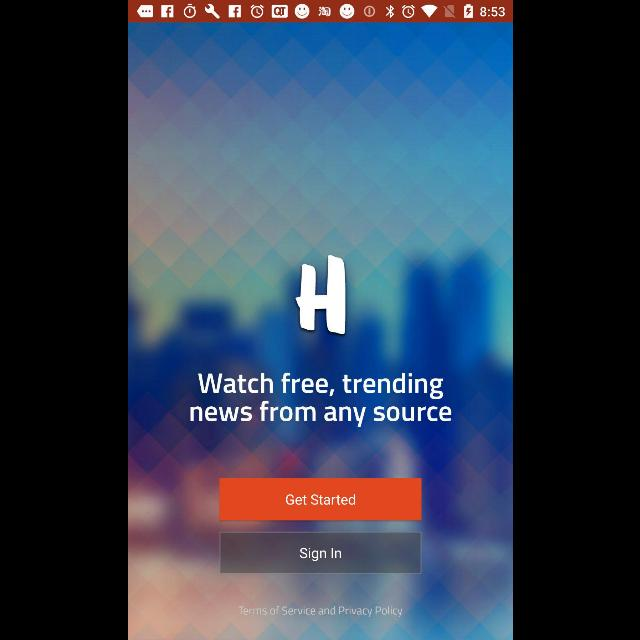image: (294, 255, 346, 335)
text: (189, 372, 451, 428), (236, 605, 402, 617)
textbutton: (218, 532, 422, 574), (219, 478, 421, 520)
uppertaskbar: (128, 1, 512, 23)
